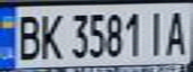1: (121, 8, 145, 57)
3: (66, 9, 90, 60)
5: (87, 9, 109, 58)
8: (103, 9, 127, 58)
A: (163, 7, 193, 56)
B: (12, 10, 42, 61)
I: (142, 7, 169, 57)
K: (36, 9, 66, 61)
